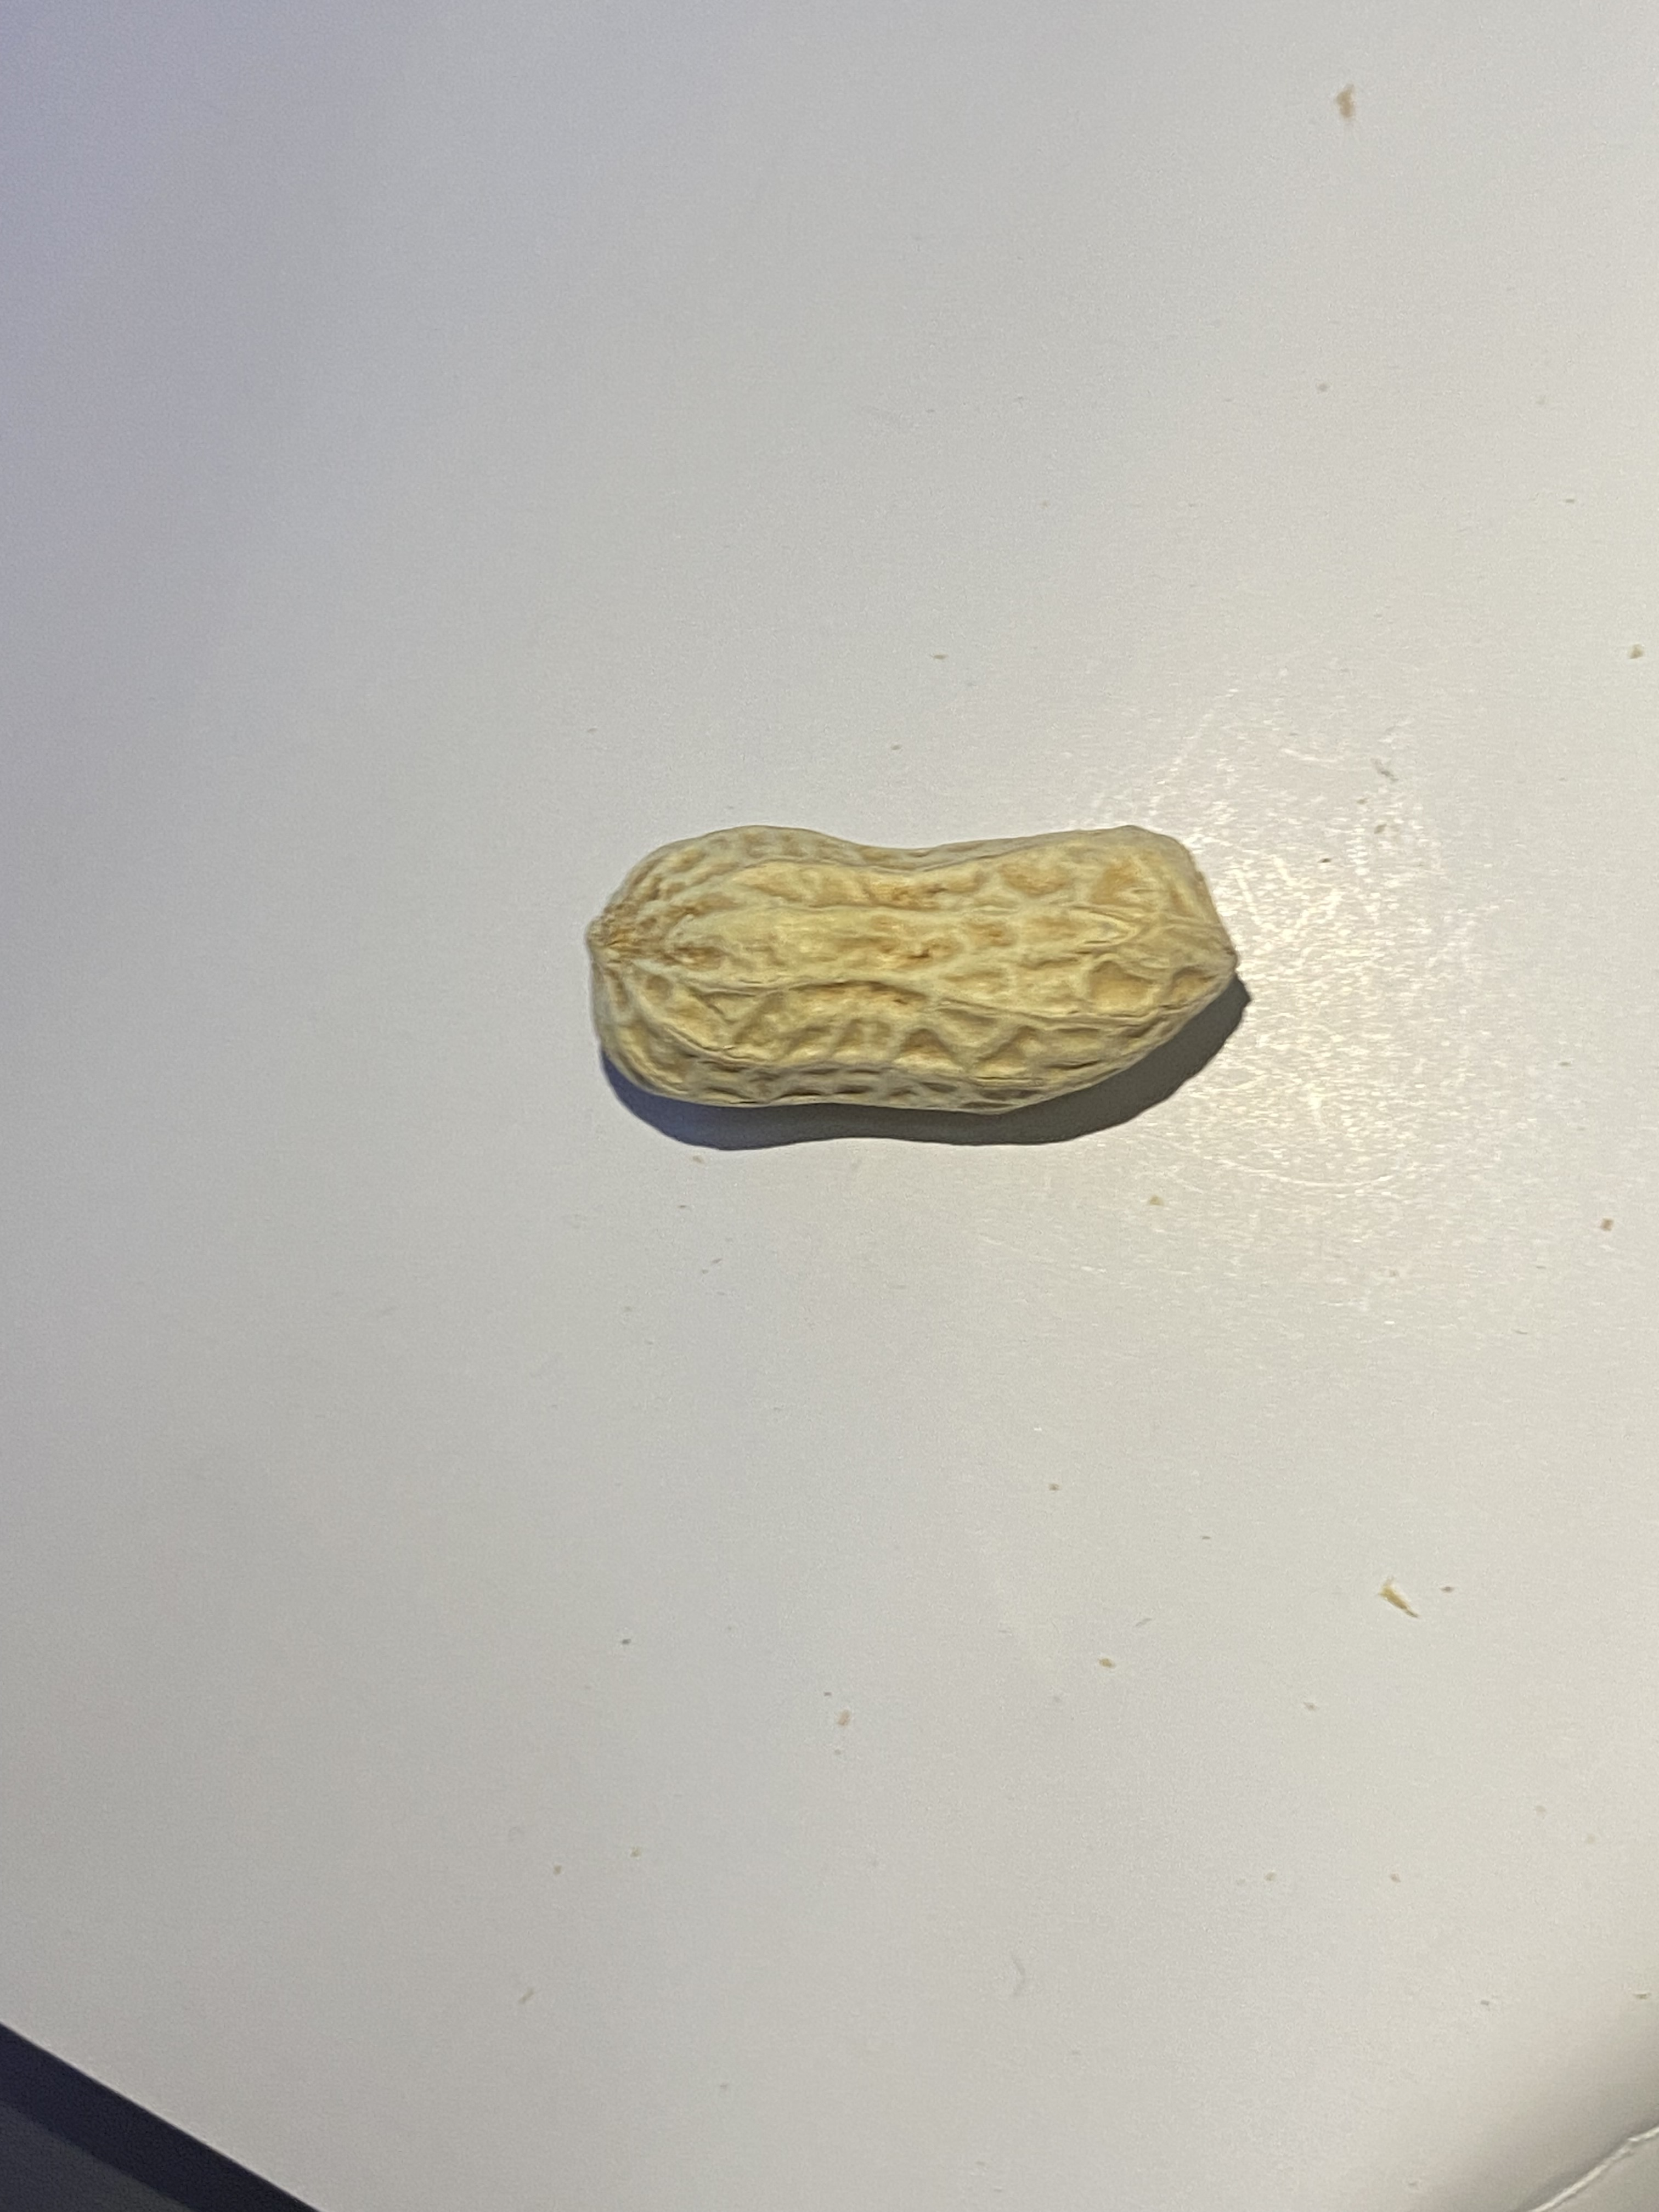kacang2: (566, 819, 1246, 1120)
